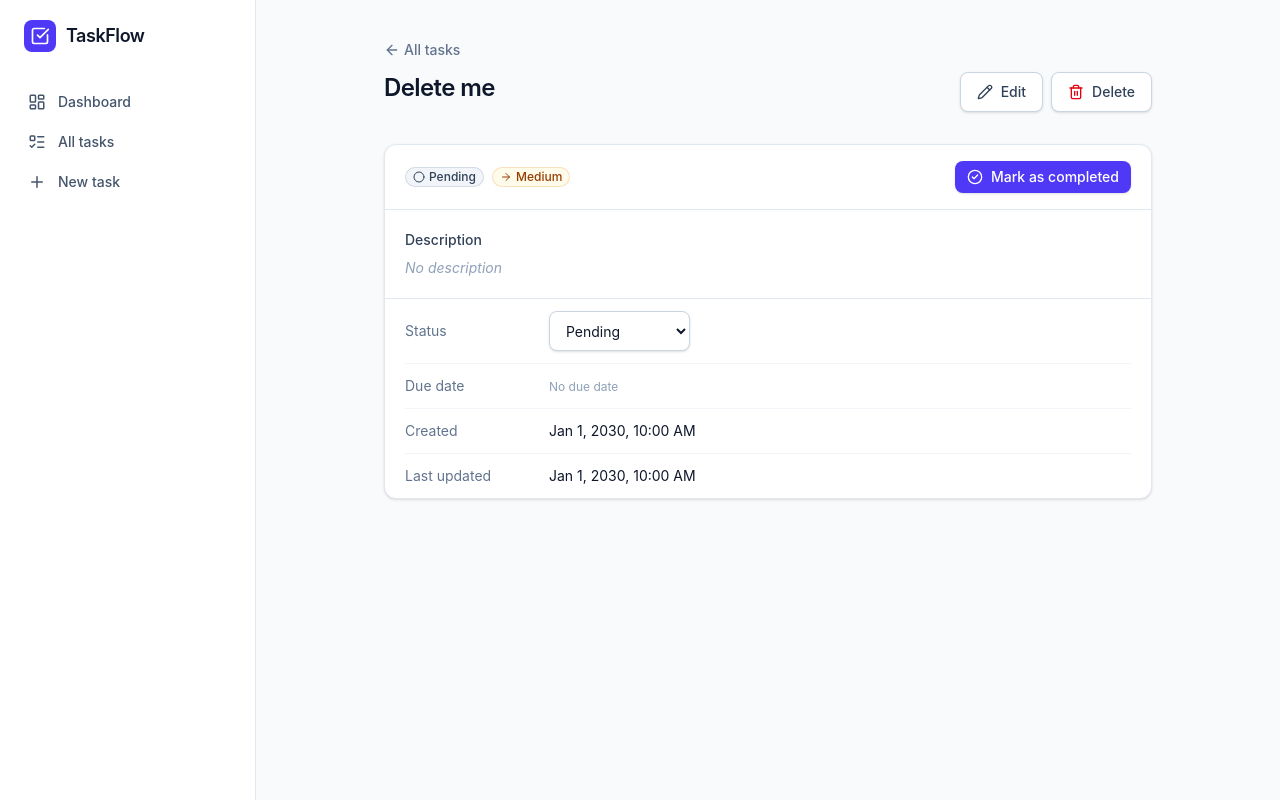
Test: Task details › asks for confirmation before deleting
Step 1. Click the button "Delete" → (1102, 92), box [1051,72,1152,112]
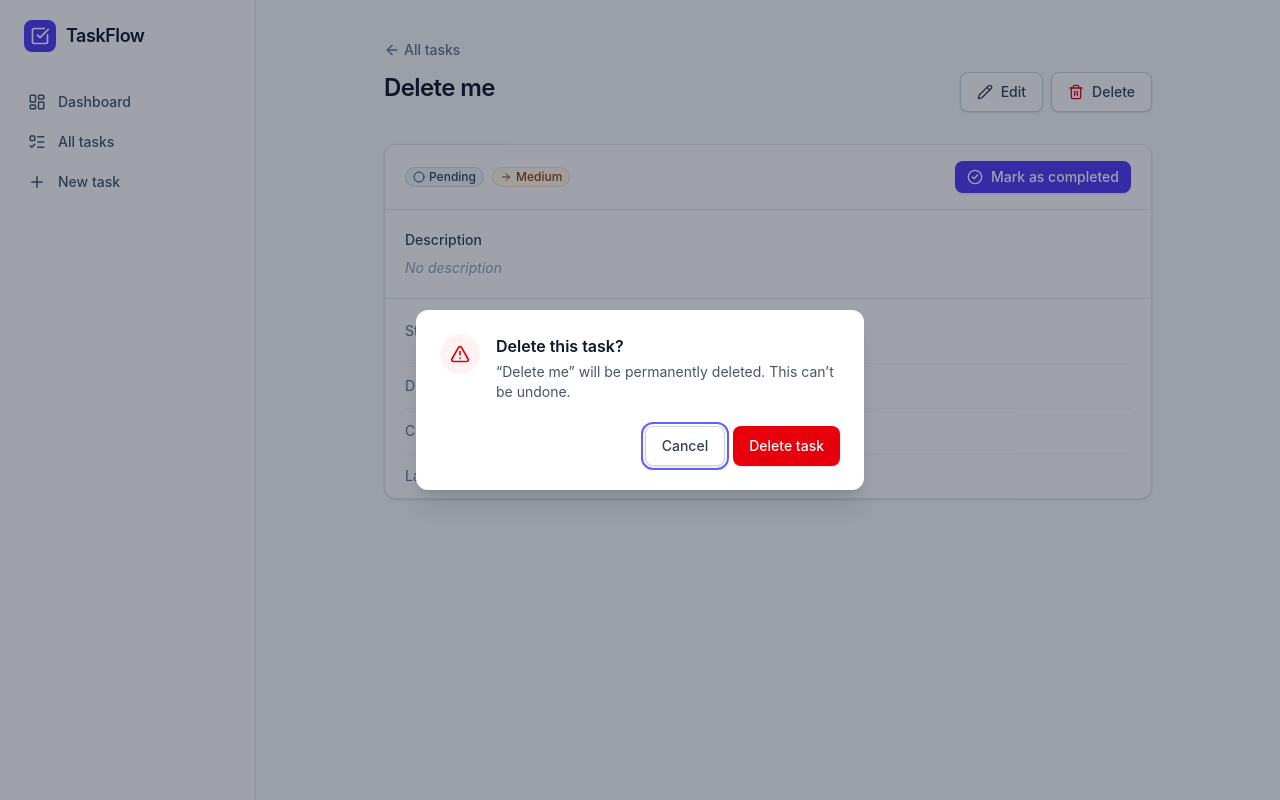
# Cancelling keeps the task.
Step 2. Click the button "Cancel" → (685, 446), box [645,426,725,466]
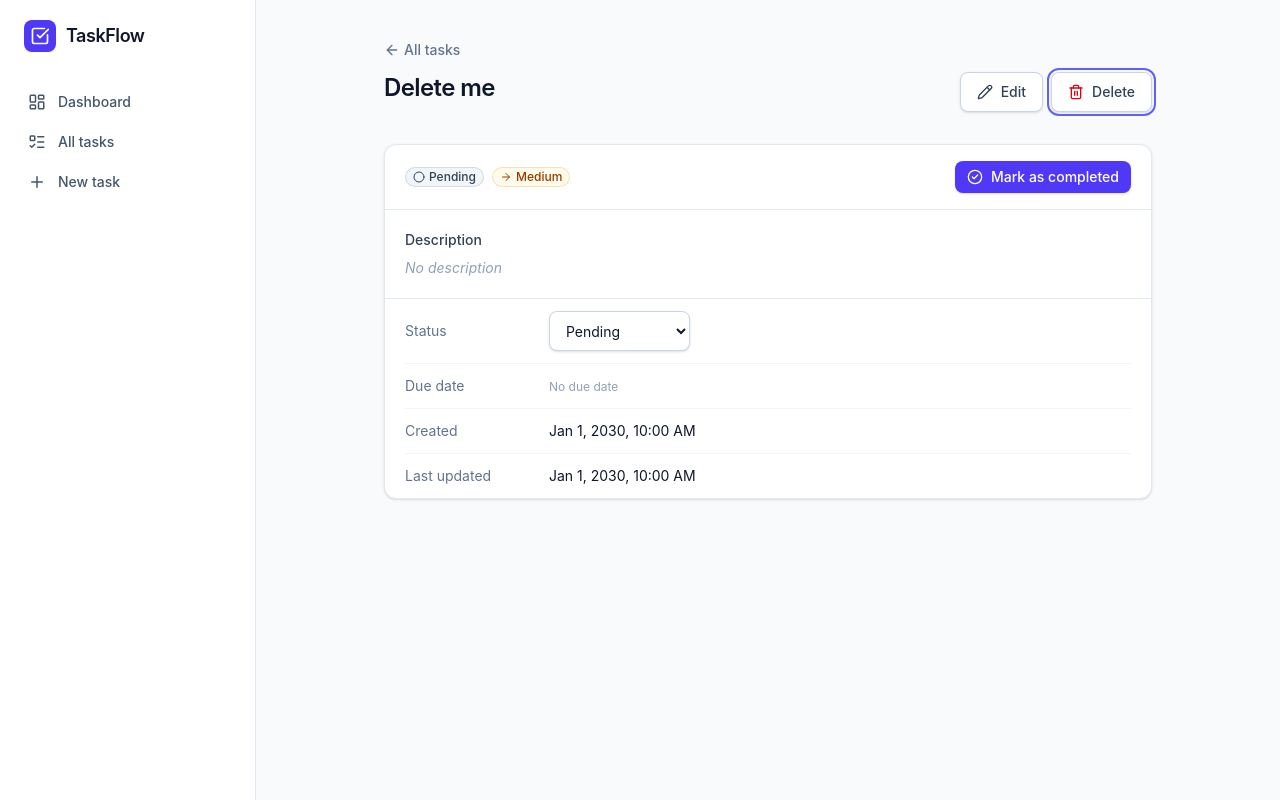
Now the dialog is gone
Step 3. Click the button "Delete" → (1102, 92), box [1051,72,1152,112]
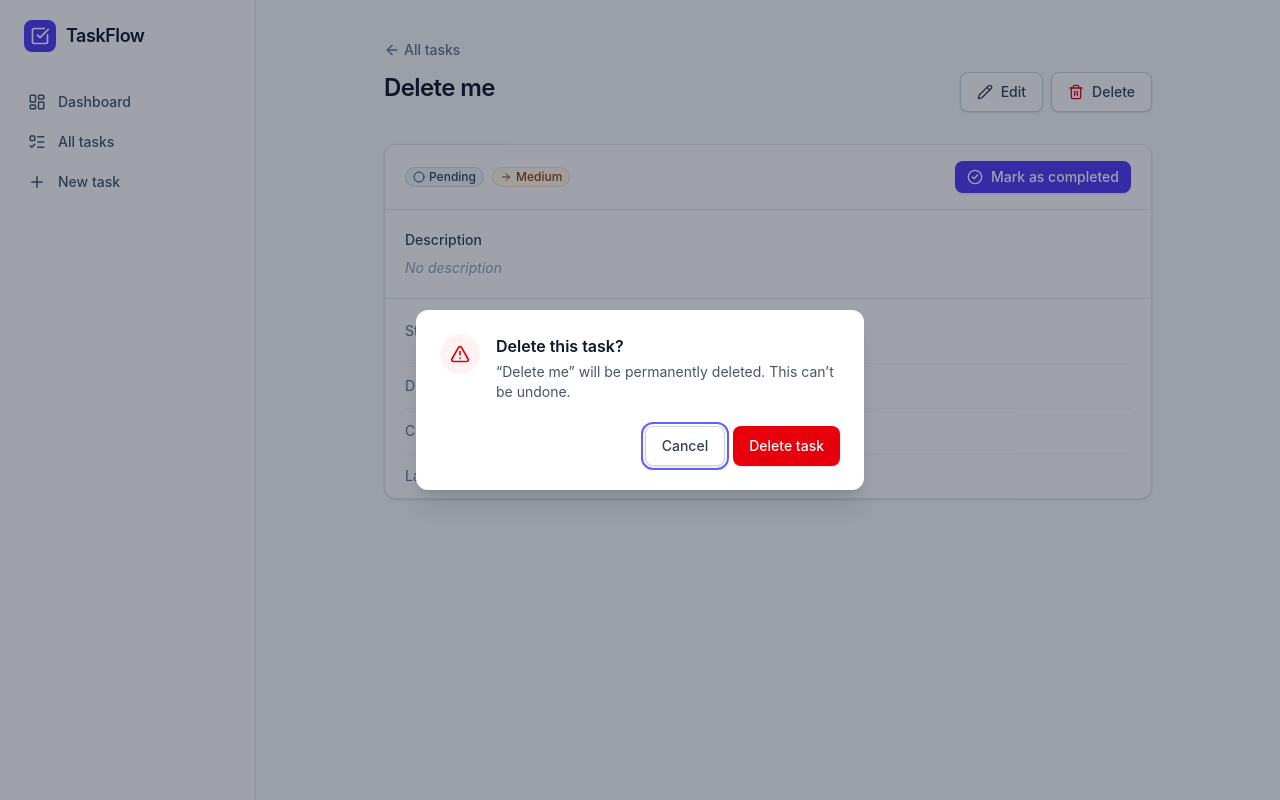
Step 4. Click the button "Delete task" → (787, 446), box [733,426,840,466]
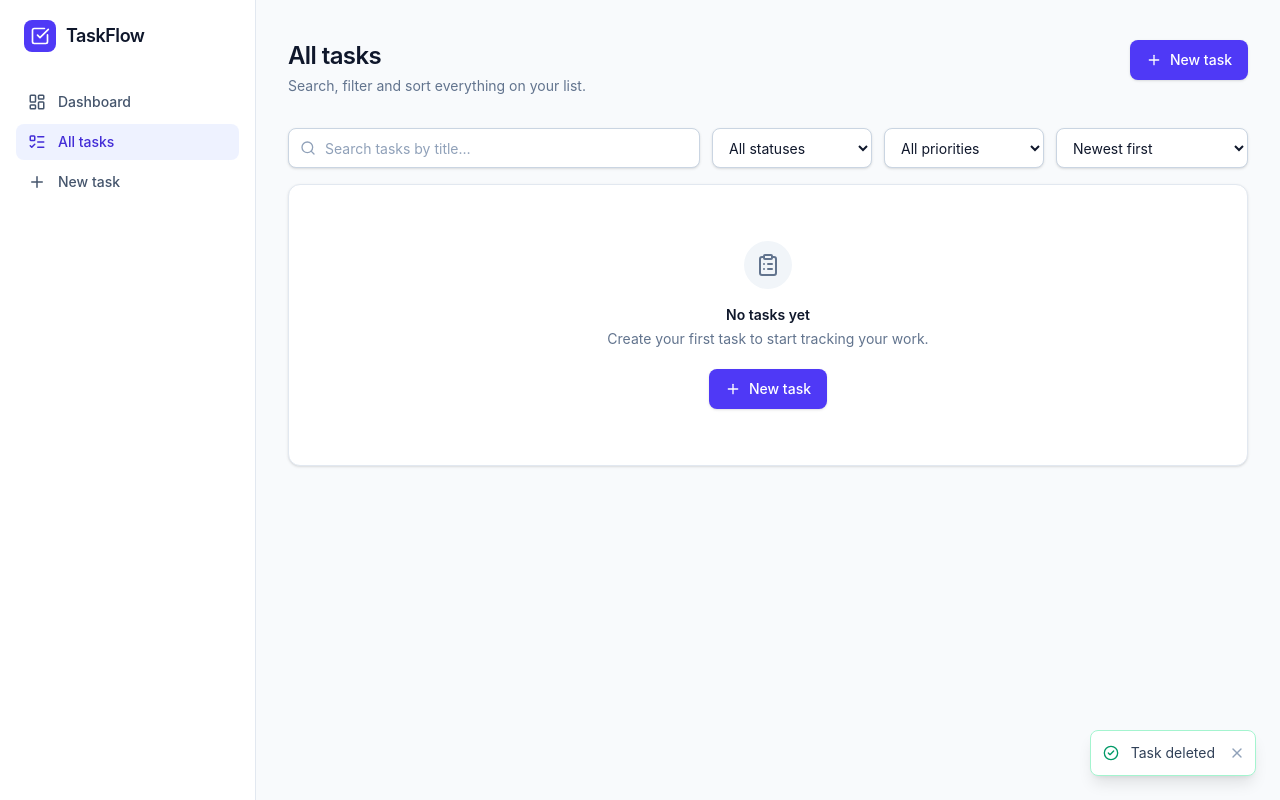
Now the heading "All tasks" is shown, box [288,41,381,70]
Now the text "Task deleted" is shown, box [1131,743,1215,763]
